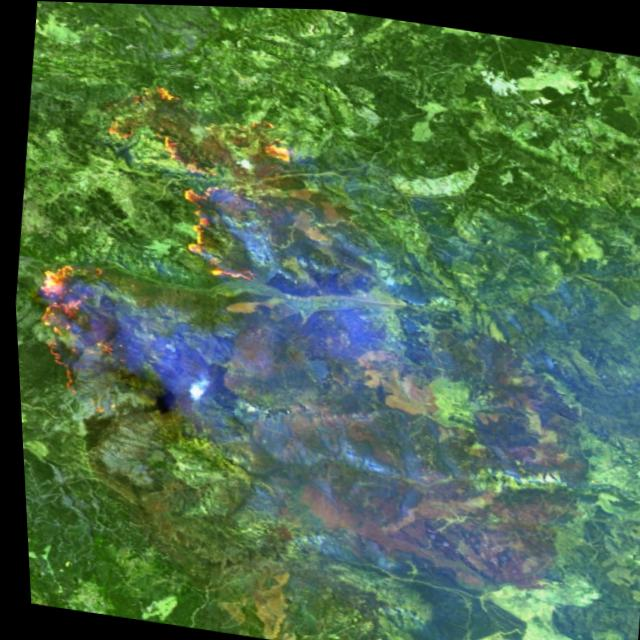fire: (9, 64, 344, 435)
